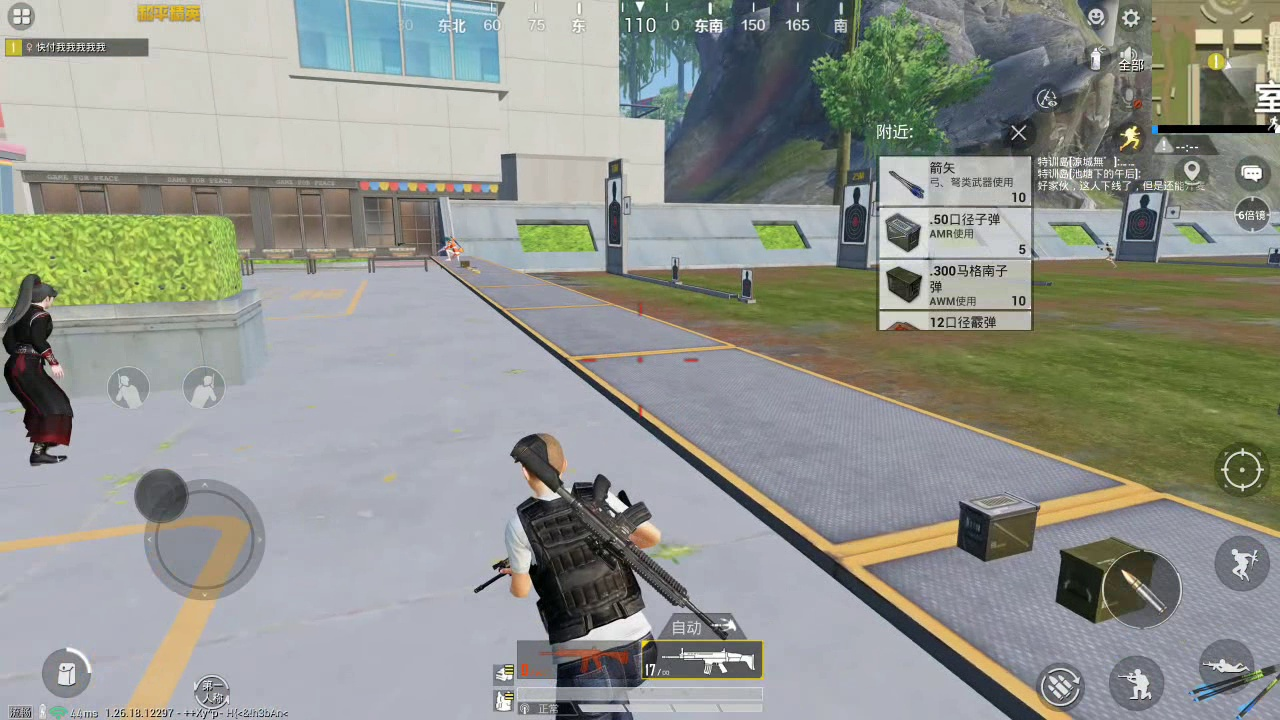enemy: (4, 272, 86, 467), (438, 233, 462, 264)
